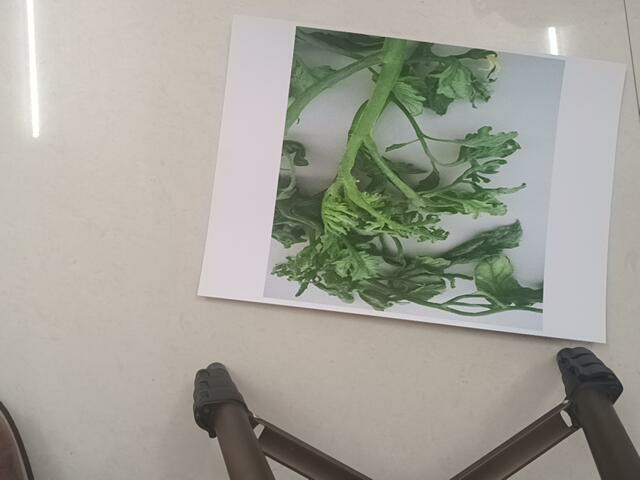Tomamto_Mosaic_virus: (292, 31, 543, 326)
